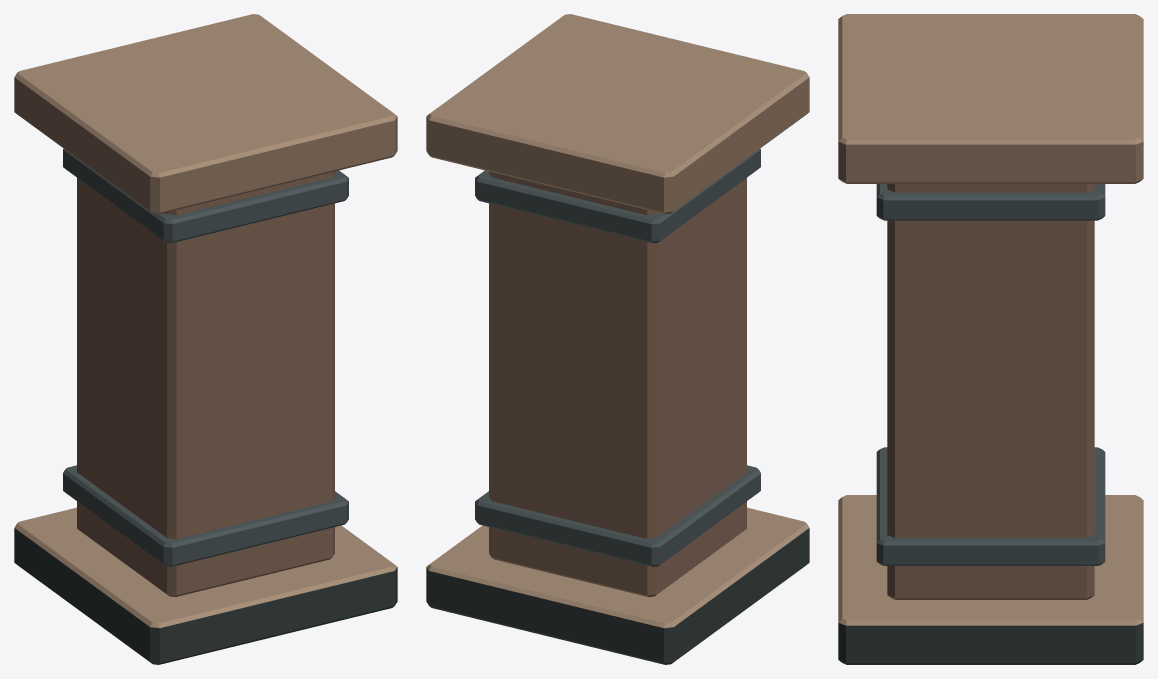
The model's file is pillar-large.glb.
3 views of the same model, side by side, from view 1: azimuth 30°, elevation 25°; view 2: azimuth 150°, elevation 25°; view 3: azimuth 270°, elevation 25° (orthographic). The views are drawn at different scales.
Parts seen in each view (by area): view 1: pillar-large__body; view 2: pillar-large__body; view 3: pillar-large__body.
Part boxes in pixels (x1=…): pillar-large__body: x1=14, y1=14, x2=397, y2=664; pillar-large__body: x1=426, y1=14, x2=809, y2=664; pillar-large__body: x1=838, y1=14, x2=1143, y2=664.
Size of the model in its own units: 1 by 1.9 by 1.
